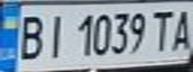0: (90, 9, 112, 56)
1: (72, 9, 93, 57)
3: (112, 9, 133, 56)
9: (127, 8, 151, 55)
A: (169, 5, 193, 53)
B: (12, 10, 48, 61)
I: (42, 10, 69, 61)
T: (148, 7, 175, 53)
